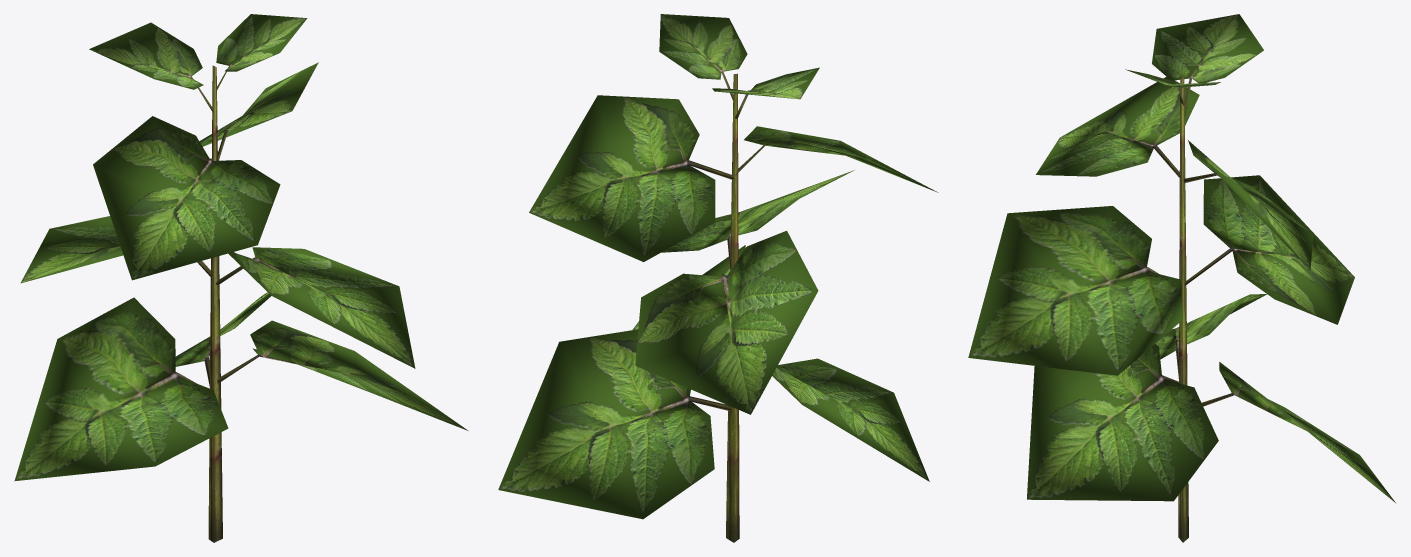
Rendered from Spanishneedles_m.FBX.
The picture shows the model from 3 angles, left to right: view 1: azimuth 30°, elevation 25°; view 2: azimuth 150°, elevation 25°; view 3: azimuth 270°, elevation 25°; orthographic projection. The views are drawn at different scales.
Parts seen in each view (by area): view 1: Spanishneedles; view 2: Spanishneedles; view 3: Spanishneedles.
Part boxes in pixels (left/top/right/bottom): Spanishneedles: left=14, top=14, right=468, bottom=542; Spanishneedles: left=498, top=14, right=938, bottom=542; Spanishneedles: left=968, top=14, right=1395, bottom=542.
Bounding box in the file's own units: 33.48 × 43.5 × 34.2.
